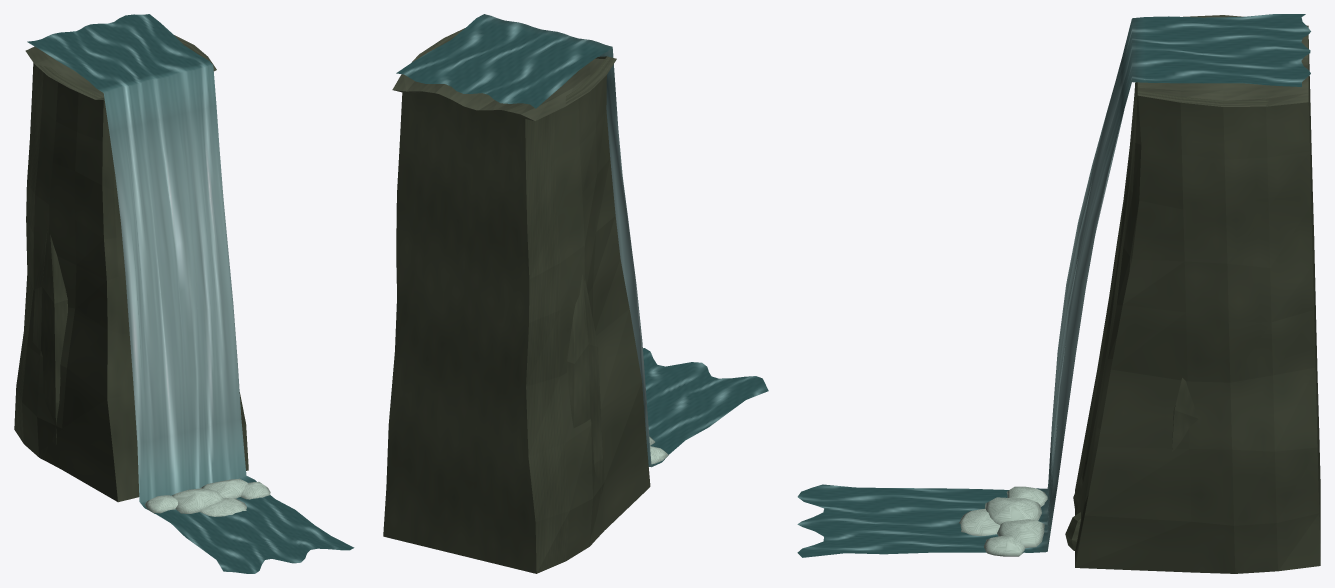
The model's file is fall-narrow-lod0.glb.
3 renders of one model, left to right at view 1: azimuth 30°, elevation 25°; view 2: azimuth 150°, elevation 25°; view 3: azimuth 270°, elevation 25°, orthographic. The views are drawn at different scales.
Bounding box in the file's own units: 0.428 × 1 × 0.993.
Materials: 1 (1 with a texture image).
